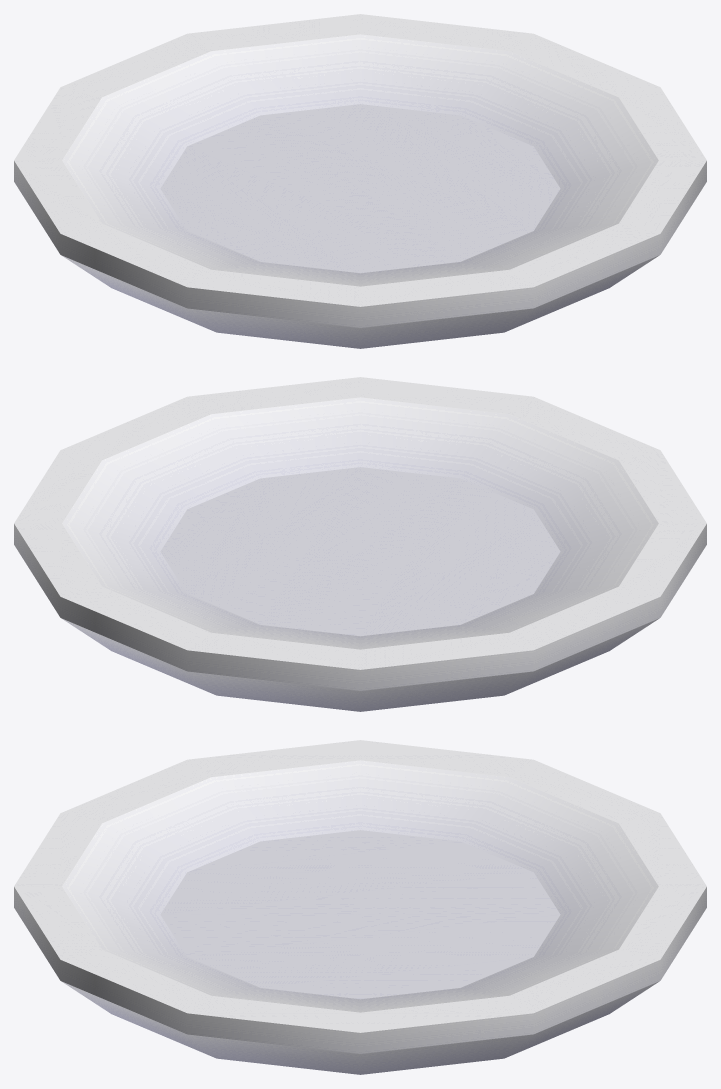
File: cup-saucer.glb
3 renders of one model, top to bottom at view 1: azimuth 30°, elevation 25°; view 2: azimuth 150°, elevation 25°; view 3: azimuth 270°, elevation 25°, orthographic.
Parts seen in each view (by area): view 1: cup-saucer; view 2: cup-saucer; view 3: cup-saucer.
Boxes of the visible parts, left/top/right/bottom form: cup-saucer: left=14, top=14, right=706, bottom=348; cup-saucer: left=14, top=377, right=706, bottom=711; cup-saucer: left=14, top=740, right=706, bottom=1074.
Size of the model in its own units: 0.3567 by 0.038 by 0.3567.
Materials: 1 (1 with a texture image).
